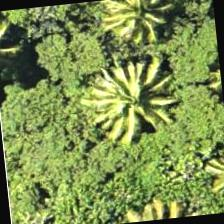Kelapa_Sawit: (84, 55, 183, 154), (91, 0, 188, 64)
